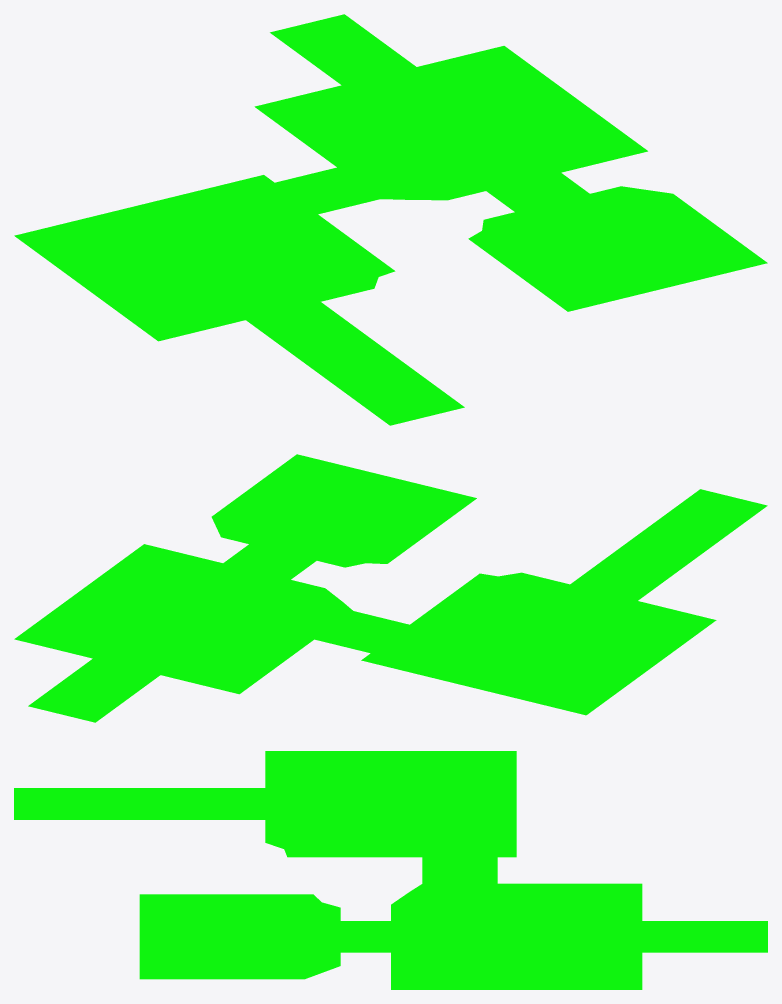
File: s04b_ic3-floor.glb
The picture shows the model from 3 angles, top to bottom: view 1: azimuth 30°, elevation 25°; view 2: azimuth 150°, elevation 25°; view 3: azimuth 270°, elevation 25°; orthographic projection. The views are drawn at different scales.
Visible parts, largest first — view 1: collision_floor-colonly; view 2: collision_floor-colonly; view 3: collision_floor-colonly.
Part boxes in pixels (x1,y1,x2,y2): collision_floor-colonly: (14,14,767,425); collision_floor-colonly: (14,454,767,722); collision_floor-colonly: (14,751,767,989).
Size of the model in its own units: 44.99 by 0 by 60.
